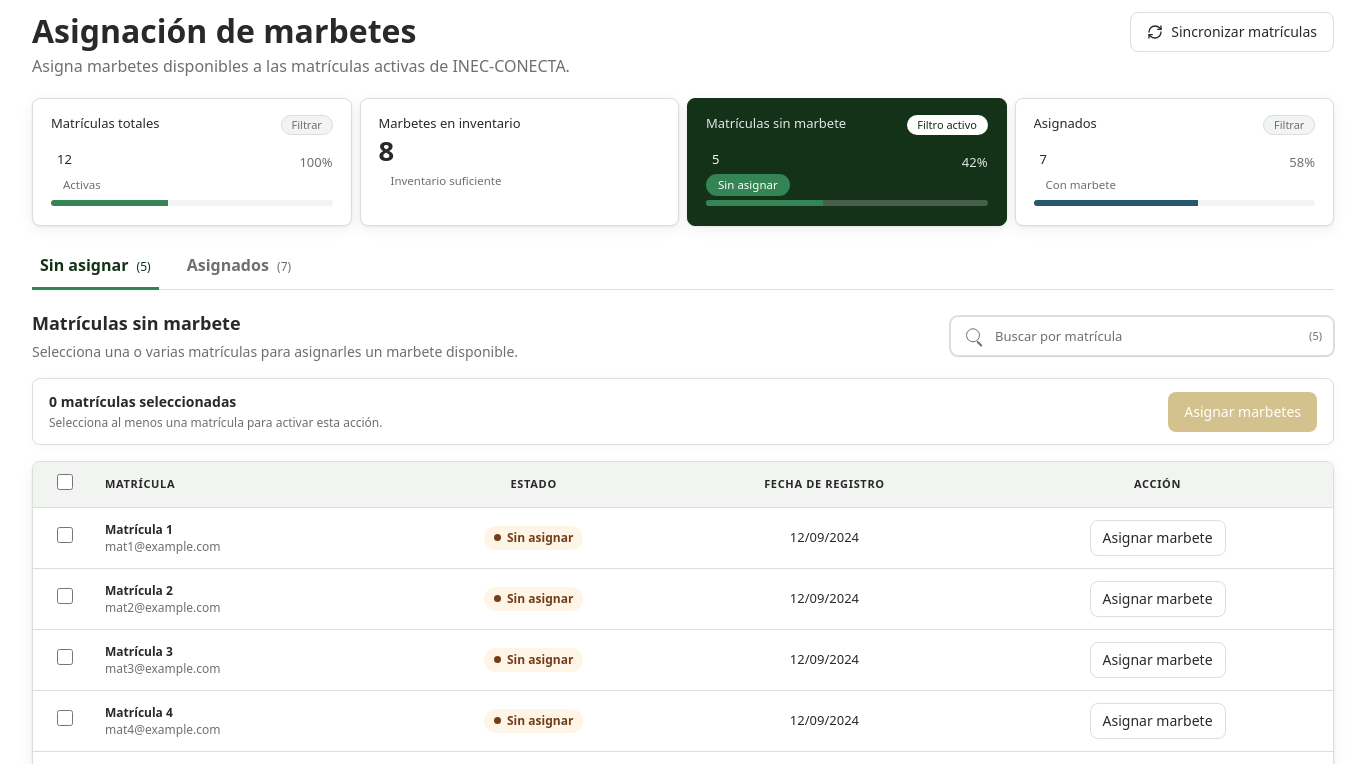
Scenario: AsociarPageClient › sends the sync request from the admin-only sync button
Click the button with test id "sync-matriculas-trigger": (1232, 32) [1130,12,1334,52]
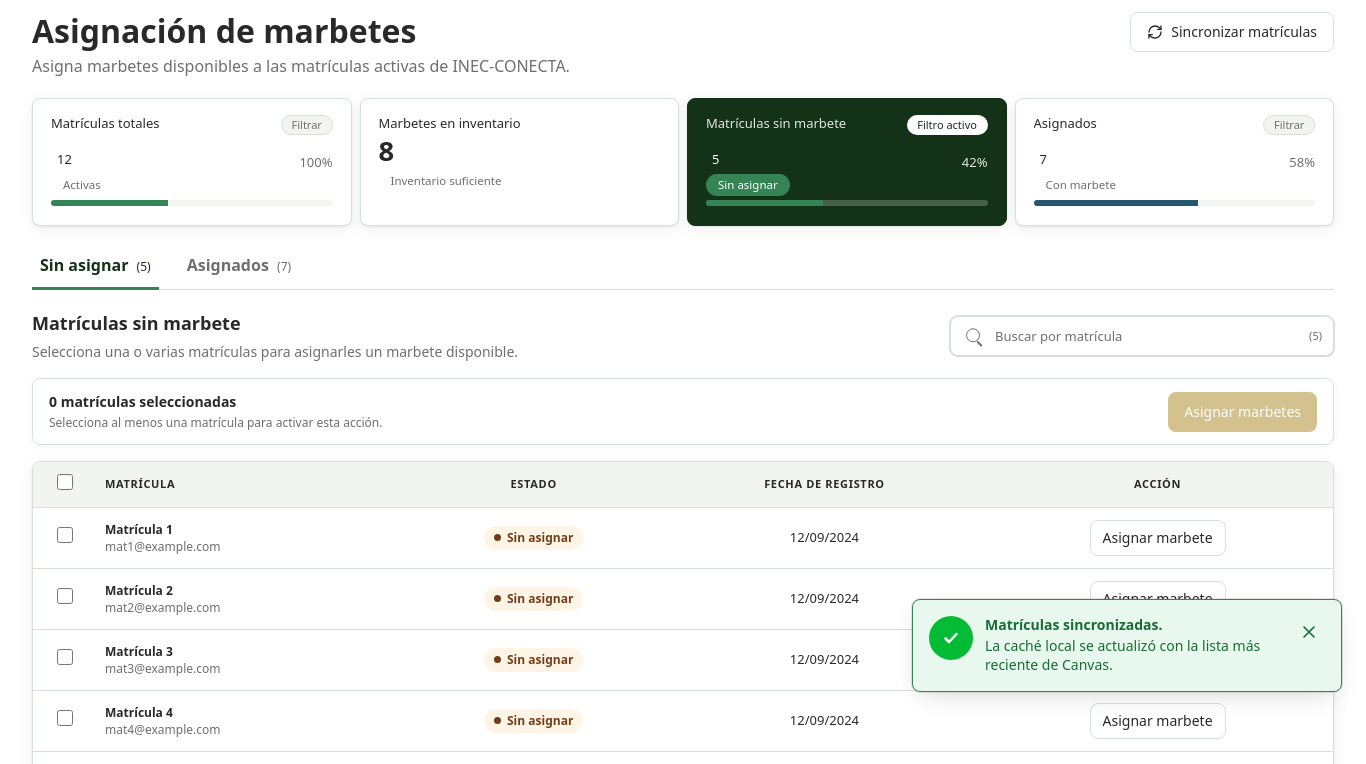
Result: the text with test id "app-alert-title" reads "Matrículas sincronizadas." at [985,615,1162,634]
